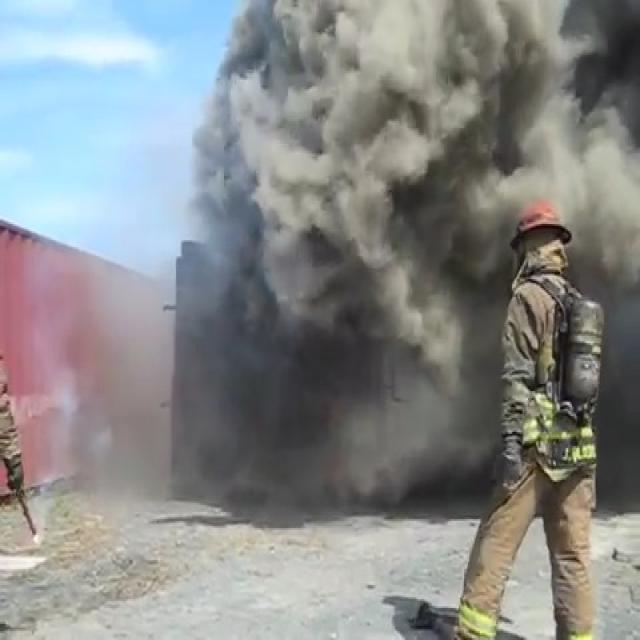Smoke: (233, 0, 501, 435)
